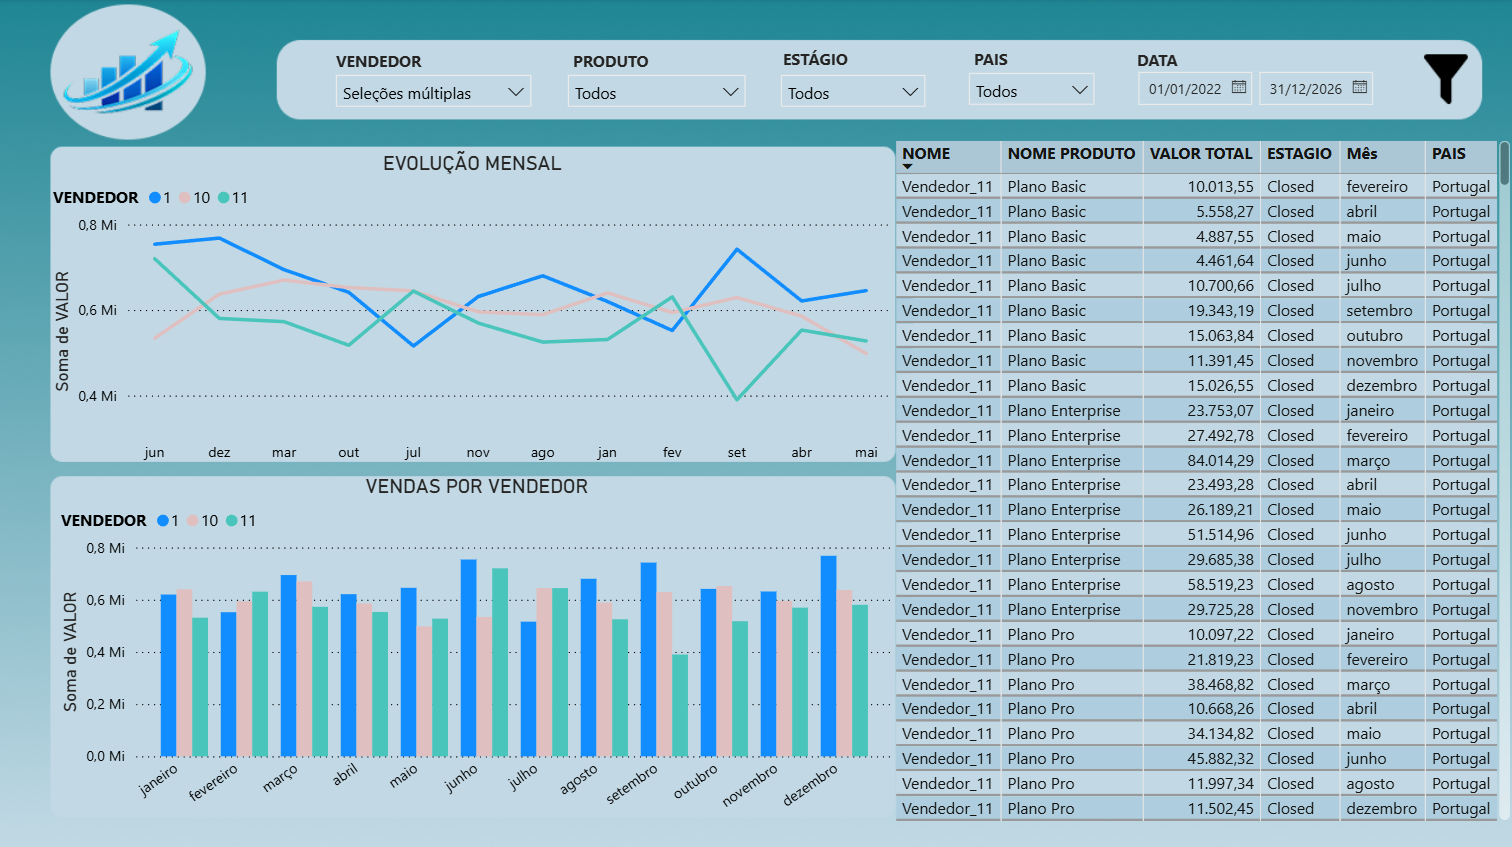

The dashboard page shown, as its layout file describes it:
{"tool":"powerbi","page":{"name":"Performance","canvas":[1280,720],"ordinal":1},"visuals":[{"type":"tableEx","fields":{"Values":["VENDEDORES.NOME_VENDEDOR","PRODUTOS.NOME_PRODUTO","OPORTUNIDADES.VALOR","OPORTUNIDADES.ESTAGIO","Calendario.Date.Variation.Hierarquia de datas.Mês","VENDEDORES.PAIS"]},"box":[766.4,120,513.6,579.1],"z":0},{"type":"slicer","fields":{"Values":["VENDEDORES.PAIS"]},"box":[808.2,52.7,126.4,68.2],"z":1000},{"type":"slicer","fields":{"Values":["VENDEDORES.NOME_VENDEDOR"]},"box":[274.5,53.6,184.5,67.3],"z":2000},{"type":"slicer","fields":{"Values":["Calendario.Date"]},"box":[948.2,51.8,234.5,43.6],"z":3000},{"type":"lineChart","title":"EVOLUÇÃO MENSAL","fields":{"Category":["Calendario.Mes"],"Y":["OPORTUNIDADES.VALOR"],"Series":["OPORTUNIDADES.ID_VENDEDOR"]},"box":[40.9,128.2,718.2,272.7],"z":4000},{"type":"slicer","fields":{"Values":["OPORTUNIDADES.ESTAGIO"]},"box":[650,53.6,141.8,66.4],"z":5000},{"type":"clusteredColumnChart","title":"VENDAS POR VENDEDOR","fields":{"Category":["Calendario.Date.Variation.Hierarquia de datas.Mês"],"Y":["OPORTUNIDADES.VALOR"],"Series":["OPORTUNIDADES.ID_VENDEDOR"]},"box":[47.3,400.9,711.8,304.5],"z":6000},{"type":"slicer","fields":{"Values":["PRODUTOS.NOME_PRODUTO"]},"box":[470,53.6,170,68.2],"z":7000},{"type":"textbox","box":[955.5,37.3,51.8,30.9],"z":8000},{"type":"textbox","box":[817.3,36.4,48.2,34.5],"z":9000},{"type":"textbox","box":[656.4,36.4,74.5,30.9],"z":10000},{"type":"textbox","box":[479.1,38.2,82.7,30.9],"z":11000},{"type":"textbox","box":[279.1,38.2,88.2,32.7],"z":12000}]}

Visuals, with their boxes in screenshot pixels (x1, y1, x2, y2), scaled from the page's 1280x720 canvas onto the 1512x847 screenshot:
tableEx - VENDEDORES.NOME_VENDEDOR x PRODUTOS.NOME_PRODUTO: 905, 141, 1511, 822
slicer - VENDEDORES.PAIS: 955, 62, 1104, 142
slicer - VENDEDORES.NOME_VENDEDOR: 324, 63, 542, 142
slicer - Calendario.Date: 1120, 61, 1397, 112
"EVOLUÇÃO MENSAL" lineChart: 48, 151, 897, 472
slicer - OPORTUNIDADES.ESTAGIO: 768, 63, 935, 141
"VENDAS POR VENDEDOR" clusteredColumnChart: 56, 472, 897, 830
slicer - PRODUTOS.NOME_PRODUTO: 555, 63, 756, 143
textbox: 1129, 44, 1190, 80
textbox: 965, 43, 1022, 83
textbox: 775, 43, 863, 79
textbox: 566, 45, 664, 81
textbox: 330, 45, 434, 83
